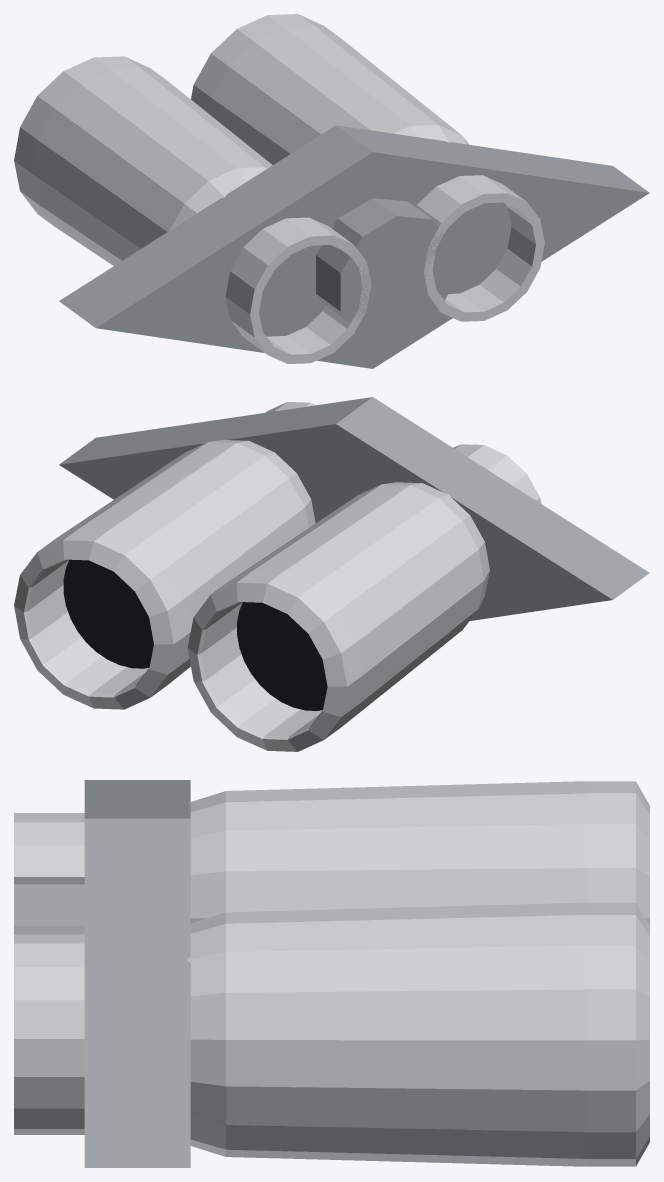
Rendered from streetline_63.glb.
3 renders of one model, top to bottom at view 1: azimuth 30°, elevation 25°; view 2: azimuth 150°, elevation 25°; view 3: azimuth 270°, elevation 25°, orthographic. The views are drawn at different scales.
Parts seen in each view (by area): view 1: model; view 2: model; view 3: model.
Part boxes in pixels (left/top/right/bottom): model: left=14, top=14, right=649, bottom=368; model: left=14, top=397, right=649, bottom=751; model: left=14, top=780, right=649, bottom=1167.
Size of the model in its own units: 0.2596 by 0.097 by 0.18.
3 materials, 1 textured.
